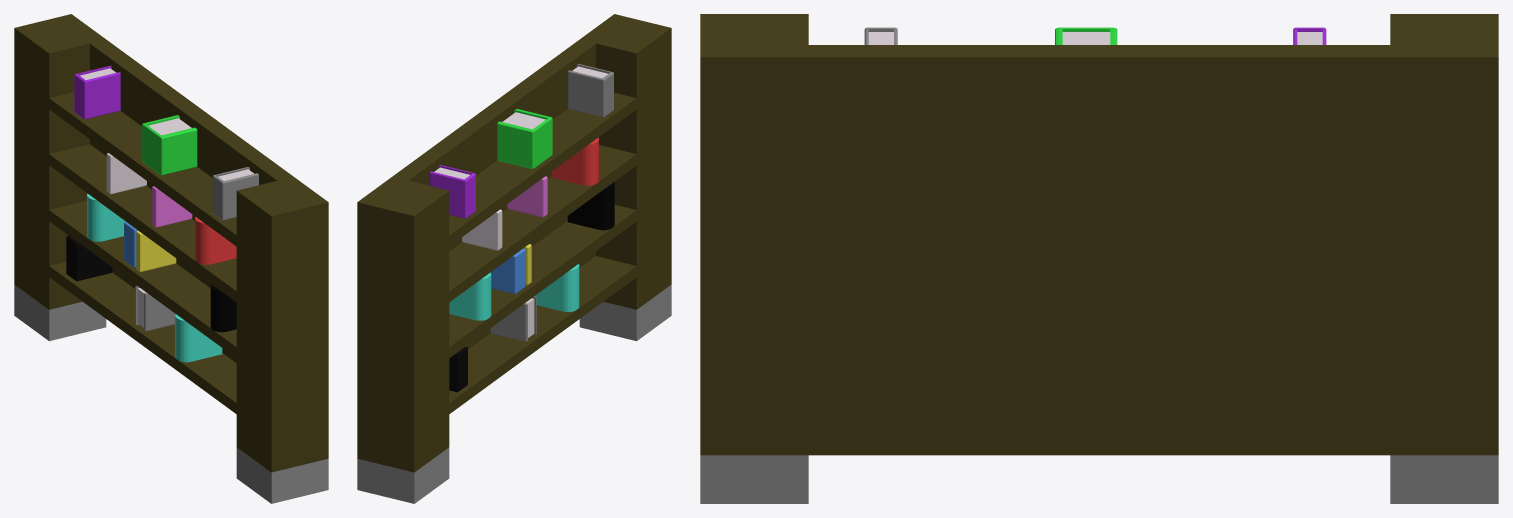
The model's file is SHELFBOOK.fbx.
The picture shows the model from 3 angles, left to right: view 1: azimuth 30°, elevation 25°; view 2: azimuth 150°, elevation 25°; view 3: azimuth 270°, elevation 25°; orthographic projection. The views are drawn at different scales.
Parts seen in each view (by area): view 1: Cube.001; view 2: Cube.001; view 3: Cube.001.
Boxes of the visible parts, left/top/right/bottom form: Cube.001: left=14, top=14, right=328, bottom=503; Cube.001: left=357, top=14, right=671, bottom=503; Cube.001: left=700, top=14, right=1498, bottom=503.
Size of the model in its own units: 283 by 1359 by 2202.
